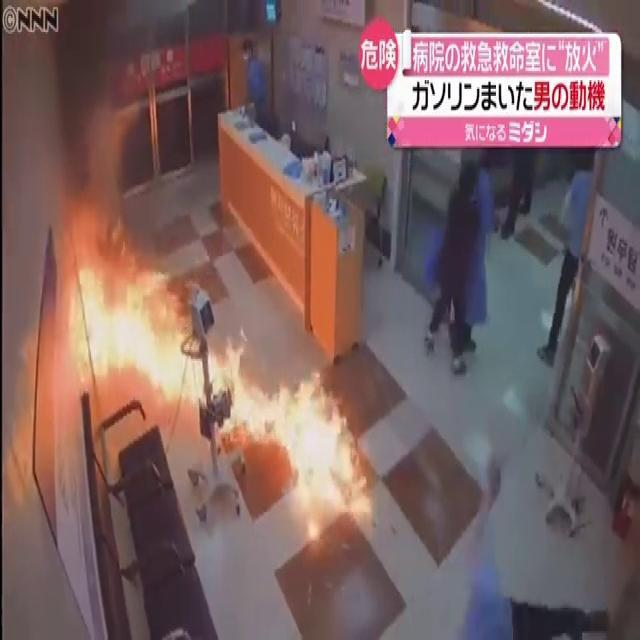Fire: (223, 338, 371, 528), (58, 247, 224, 404)
Smoke: (40, 2, 152, 242)
